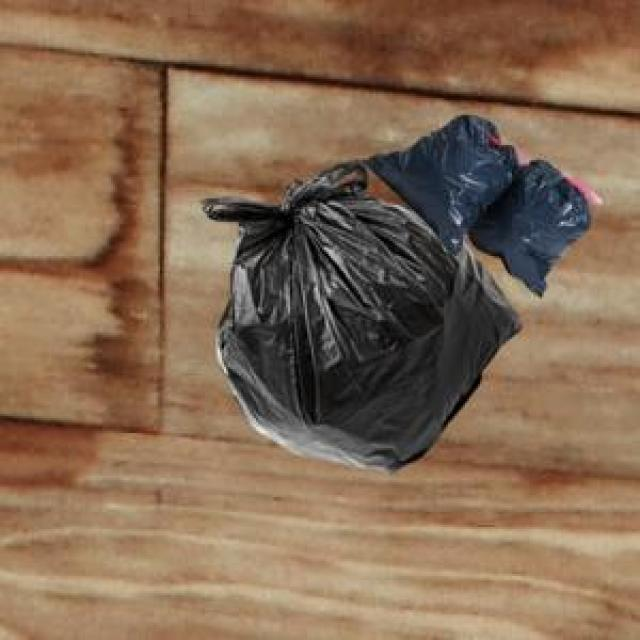miscellaneous trash: (198, 156, 516, 467), (358, 111, 597, 292)
